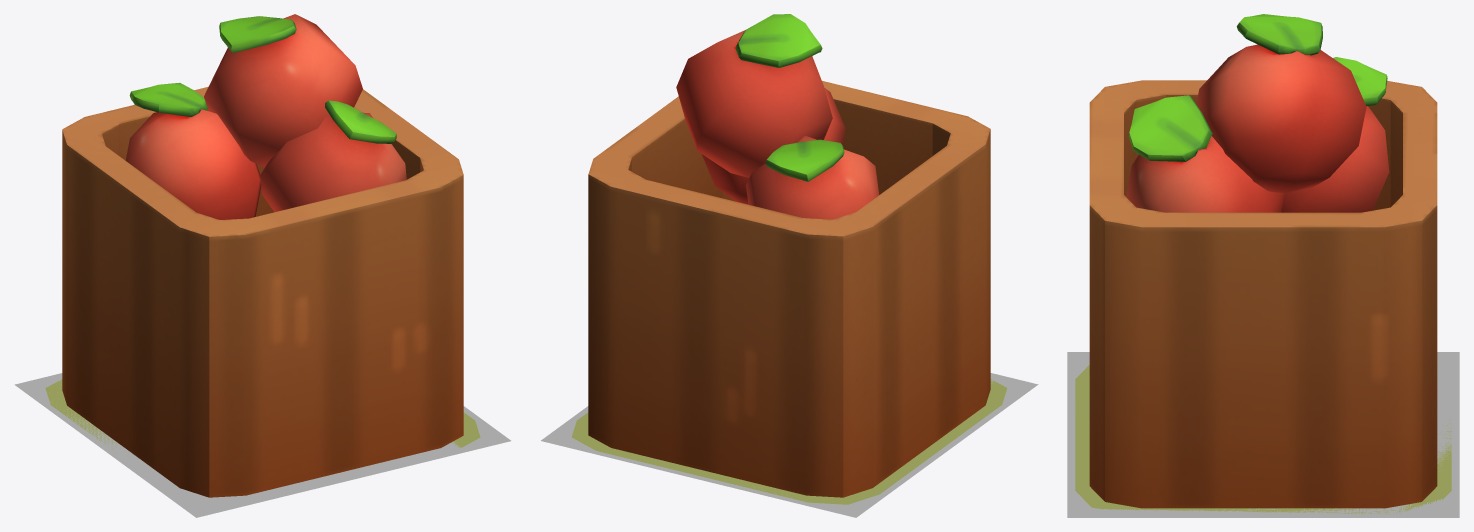
Rendered from AppleCrate.fbx.
3 views of the same model, side by side, from view 1: azimuth 30°, elevation 25°; view 2: azimuth 150°, elevation 25°; view 3: azimuth 270°, elevation 25° (orthographic). The views are drawn at different scales.
Parts seen in each view (by area): view 1: AppleCrate, Apple_M, Apple_R, AppleGroup, AppleGrid, AppleLeaf_M, AppleLeaf_R, AppleLeaf_L, AppleCrateShadow; view 2: AppleCrate, Apple_M, Apple_R, AppleCrateShadow, AppleGrid, AppleLeaf_M, AppleLeaf_R, AppleGroup; view 3: AppleCrate, Apple_M, AppleGrid, AppleGroup, Apple_R, AppleLeaf_L, AppleCrateShadow, AppleLeaf_M, AppleLeaf_R.
Boxes of the visible parts, x1,y1,x2,y2 form: AppleCrate: (62,86,463,497); Apple_M: (204,14,362,167); Apple_R: (125,109,261,219); AppleGroup: (260,112,406,212); AppleGrid: (14,373,510,517); AppleLeaf_M: (219,16,296,52); AppleLeaf_R: (129,82,207,116); AppleLeaf_L: (325,100,396,143); AppleCrateShadow: (45,379,480,449); AppleCrate: (588,81,990,497); Apple_M: (676,30,832,177); Apple_R: (746,136,879,219); AppleCrateShadow: (571,379,1007,504); AppleGrid: (541,373,1038,517); AppleLeaf_M: (736,14,822,67); AppleLeaf_R: (765,139,844,181); AppleGroup: (701,88,845,204); AppleCrate: (1089,80,1437,508); Apple_M: (1196,44,1366,193); AppleGrid: (1067,352,1459,517); AppleGroup: (1126,136,1284,212); Apple_R: (1281,106,1389,212); AppleLeaf_L: (1129,95,1212,161); AppleCrateShadow: (1075,365,1451,514); AppleLeaf_M: (1236,14,1322,55); AppleLeaf_R: (1333,57,1387,106).
Bounding box in the file's own units: 100 × 117 × 100.
